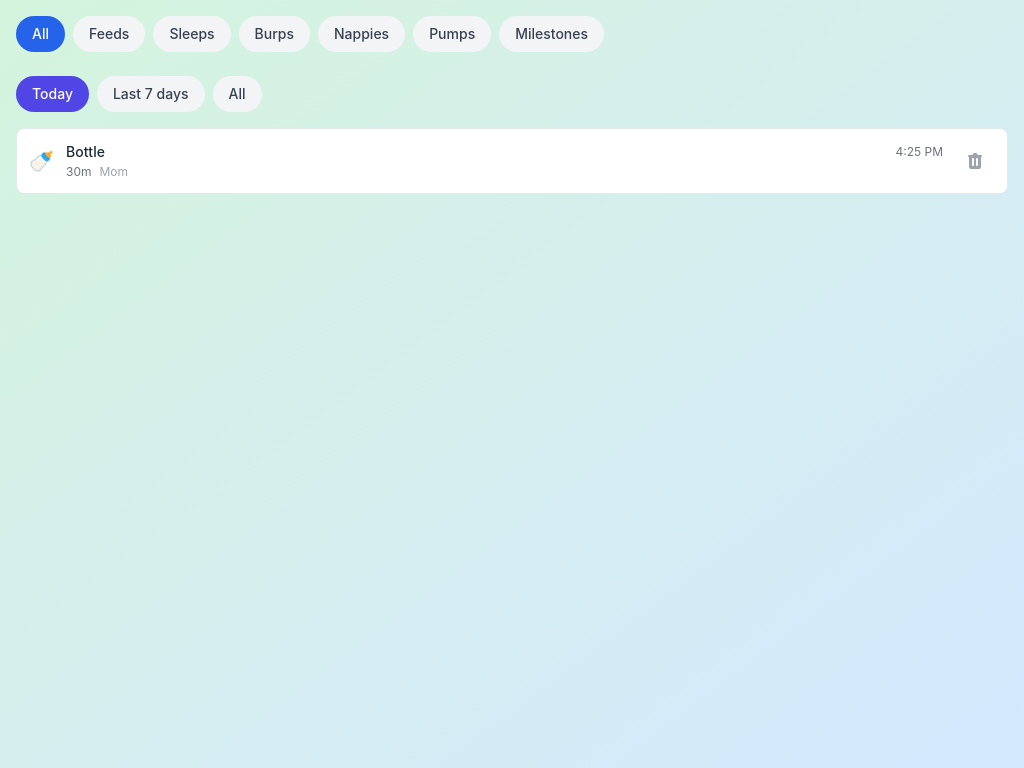
Test: History — date filter › shows events from last 7 days when 'Last 7 days' is clicked
Expected: the text "Bottle" is shown, [66,142,105,162]
Click the button "Last 7 days" at [151, 94], box [97,76,205,112]
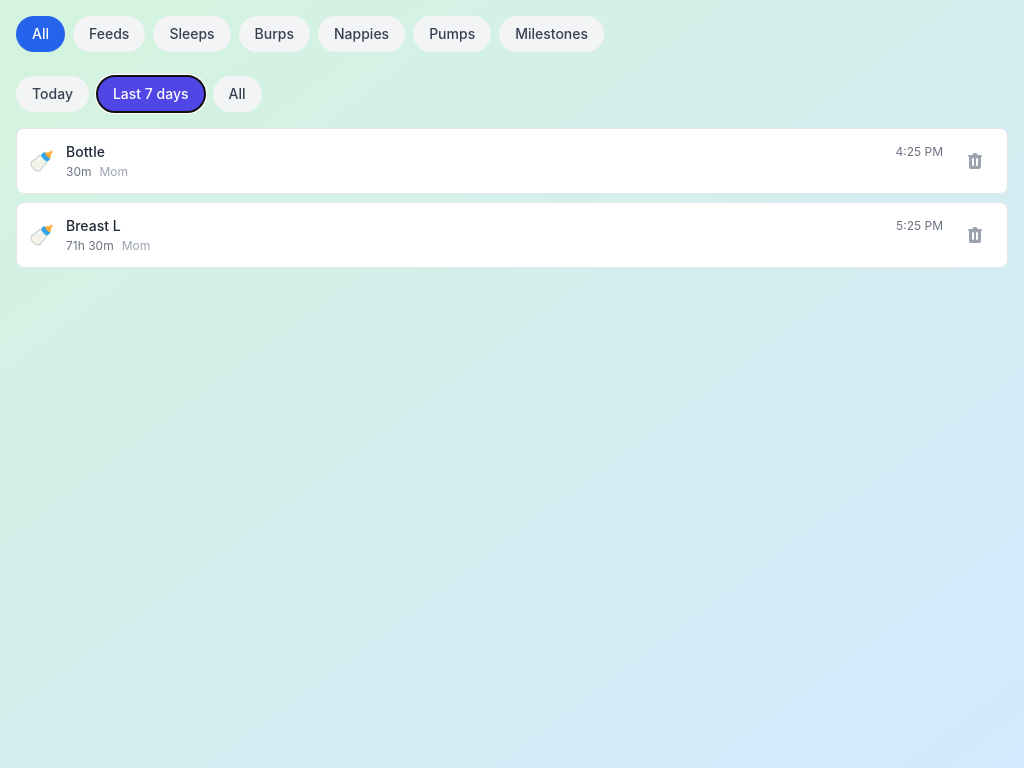
Expected: the text "Bottle" is shown, [66,142,105,162]
Expected: the text "Breast L" is shown, [66,216,121,236]
